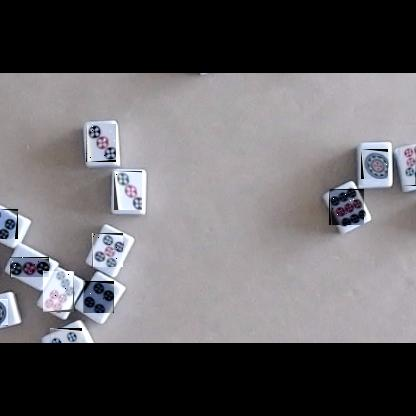1p: (361, 149, 388, 179), (0, 299, 8, 326)
3p: (86, 124, 116, 162), (114, 171, 142, 210), (10, 257, 49, 277)
4p: (83, 281, 114, 313), (0, 209, 18, 239), (50, 328, 82, 343)
5p: (92, 233, 123, 267)
7p: (43, 271, 74, 312), (402, 146, 416, 186)
9p: (329, 189, 364, 225)
